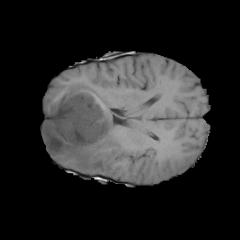glioma: (42, 82, 126, 173)
